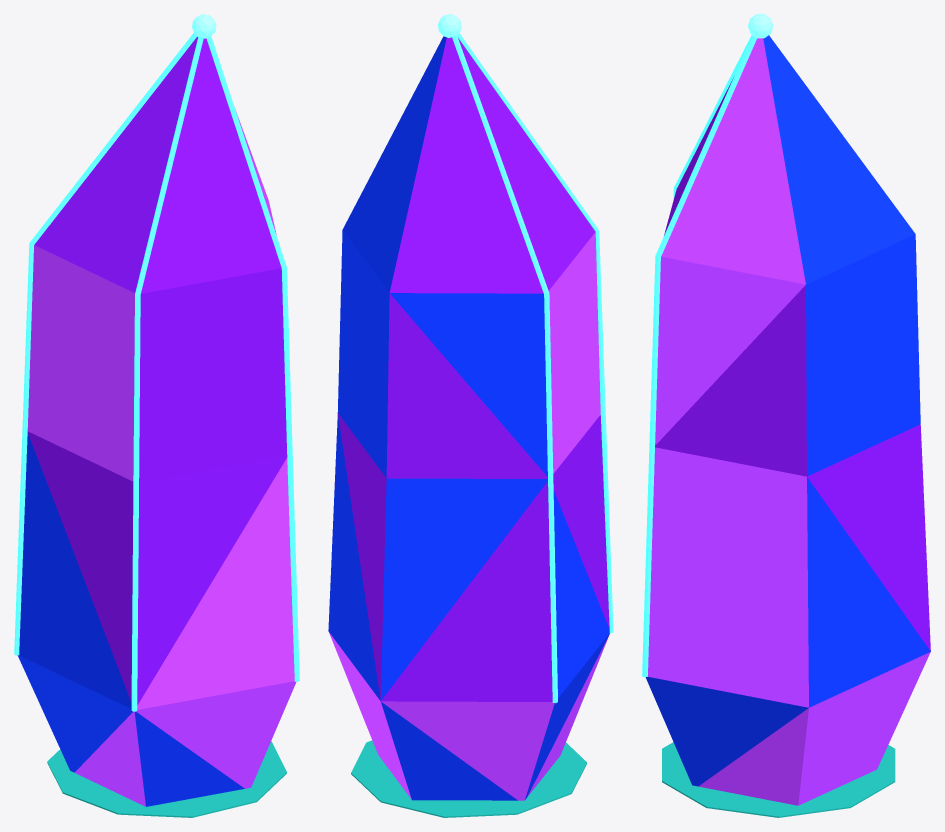
The model's file is forest_crystal_purple.glb.
The picture shows the model from 3 angles, left to right: view 1: azimuth 30°, elevation 25°; view 2: azimuth 150°, elevation 25°; view 3: azimuth 270°, elevation 25°; orthographic projection. The views are drawn at different scales.
Parts seen in each view (by area): view 1: Faceted magical crystal.001, Crystal ground reflection.001, Crystal sharp reflected edge.004, Crystal sharp reflected edge.005, Crystal sharp reflected edge.003; view 2: Faceted magical crystal.001, Crystal ground reflection.001, Crystal sharp reflected edge.003, Crystal sharp reflected edge.004; view 3: Faceted magical crystal.001, Crystal ground reflection.001, Crystal sharp reflected edge.005, Crystal sharp reflected edge.004.
Boxes of the visible parts, x1,y1,x2,y2 form: Faceted magical crystal.001: (17,36,296,806); Crystal ground reflection.001: (47,741,286,817); Crystal sharp reflected edge.004: (131,36,203,711); Crystal sharp reflected edge.005: (206,36,299,681); Crystal sharp reflected edge.003: (14,33,196,655); Faceted magical crystal.001: (328,36,609,800); Crystal ground reflection.001: (351,740,586,817); Crystal sharp reflected edge.003: (452,35,557,703); Crystal sharp reflected edge.004: (457,33,613,633); Faceted magical crystal.001: (645,35,930,805); Crystal ground reflection.001: (662,742,895,817); Crystal sharp reflected edge.005: (642,35,756,677); Crystal sharp reflected edge.004: (673,35,752,198).
Size of the model in its own units: 0.5721 by 1.66 by 0.5651.
